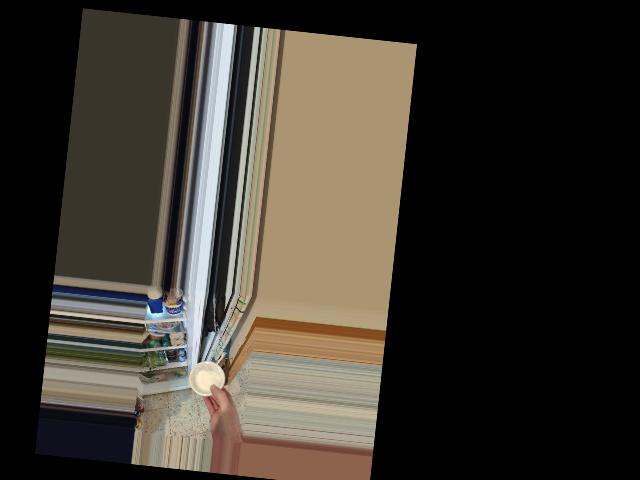cotage: (192, 361, 228, 400)
